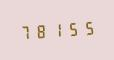eight: (33, 21, 47, 40)
five: (63, 19, 77, 38), (78, 18, 92, 37)
one: (48, 20, 62, 39)
seven: (18, 22, 32, 41)
